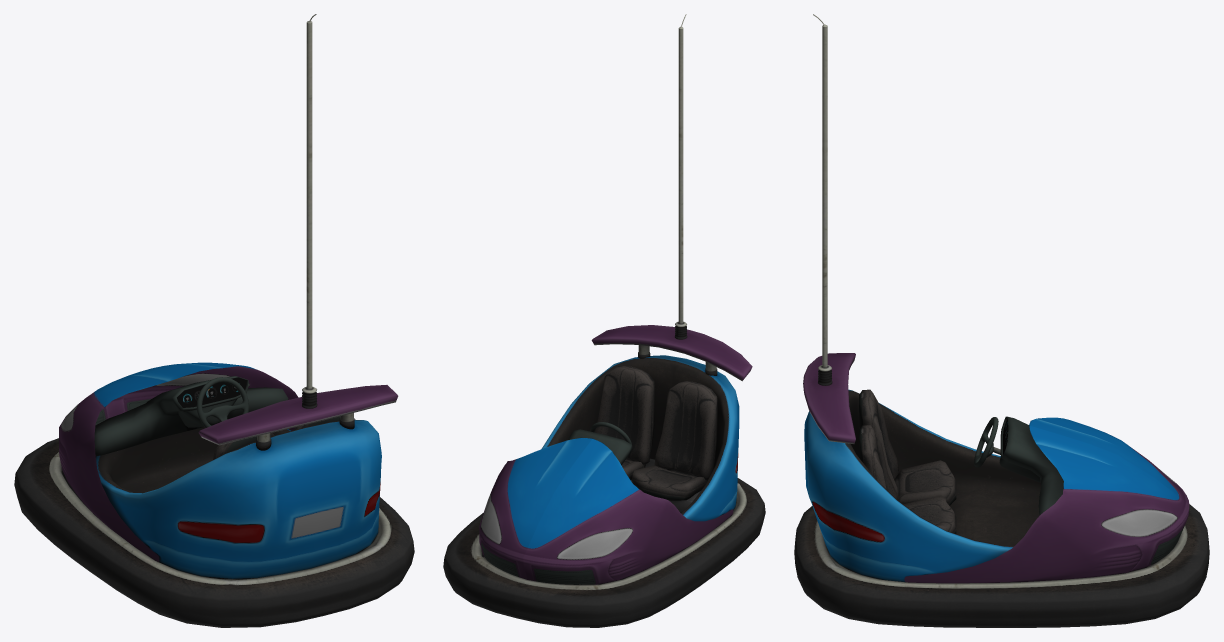
File: bumper_car.glb
3 renders of one model, left to right at view 1: azimuth 30°, elevation 25°; view 2: azimuth 150°, elevation 25°; view 3: azimuth 270°, elevation 25°, orthographic. The views are drawn at different scales.
Parts seen in each view (by area): view 1: bumpercar; view 2: bumpercar; view 3: bumpercar.
Part boxes in pixels (x1,y1,x2,y2): bumpercar: [14, 14, 414, 627]; bumpercar: [443, 14, 765, 627]; bumpercar: [794, 14, 1209, 627].
Bounding box in the file's own units: 1.96 × 4.1 × 2.78.
Materials: 1 (1 with a texture image).
